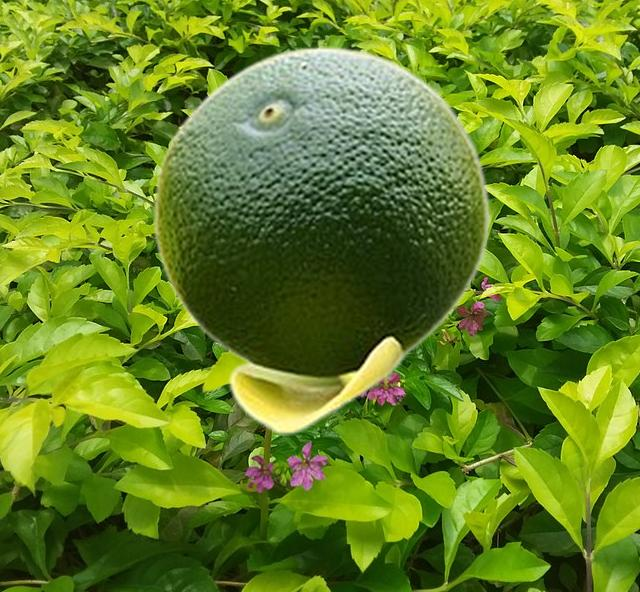calamansi: (153, 46, 489, 434)
